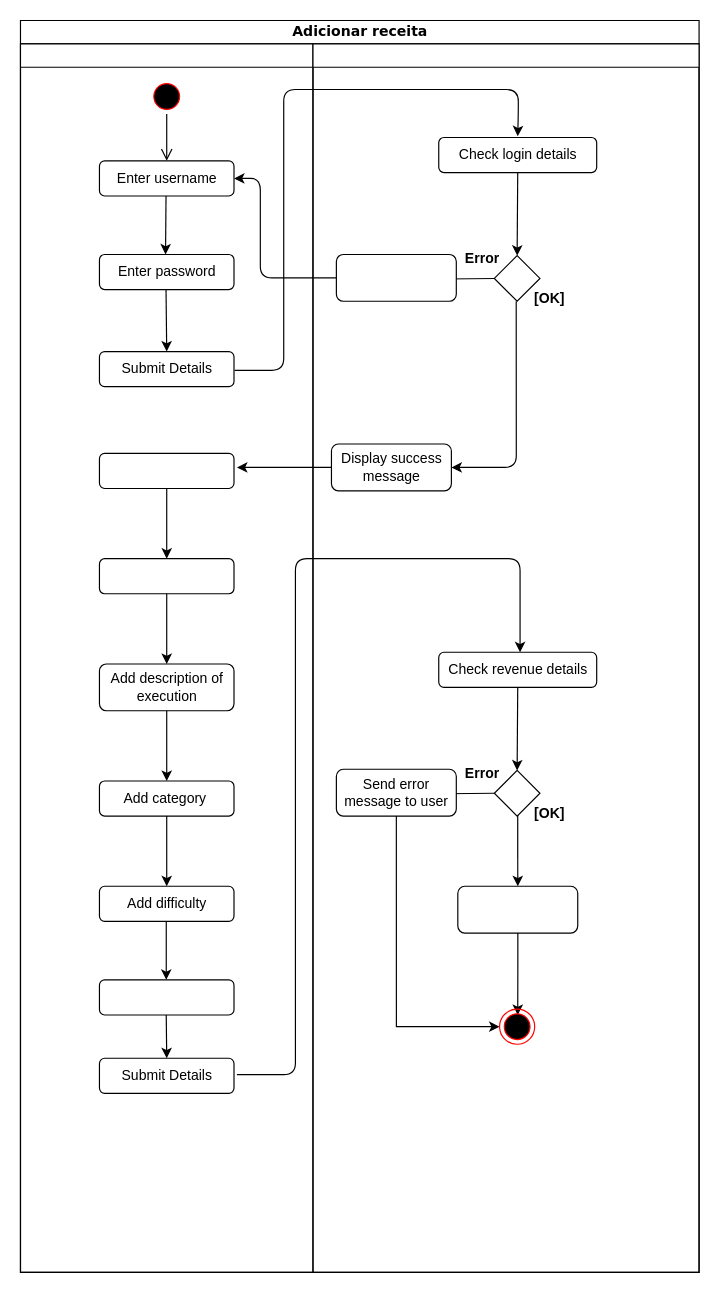
This 720x1293 diagram has some shape labels left out. Each missing label, with the box of its shape:
Add duration: (98, 979, 234, 1015)
Add ingredient list: (98, 558, 234, 594)
Add Revenue: (98, 452, 234, 488)
Display error message: (335, 253, 456, 301)
Post Reciept: (457, 885, 578, 933)
Sistema: (312, 43, 699, 1272)
Utilizador registado: (19, 43, 313, 1272)
